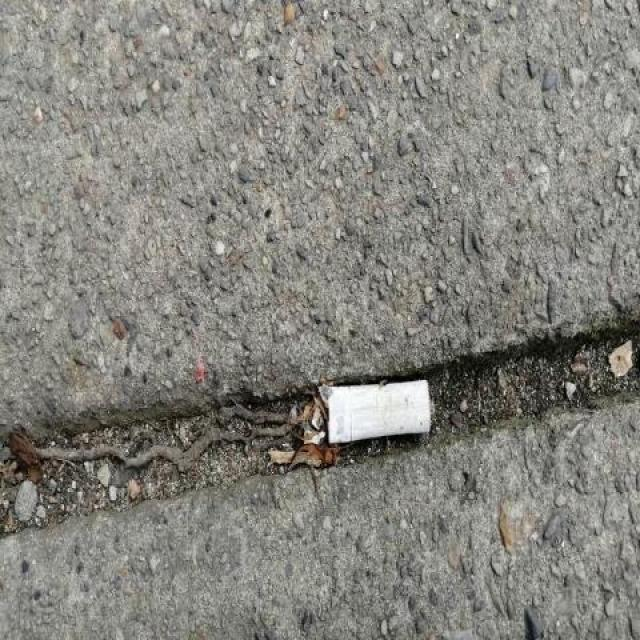non-organic waste: (320, 378, 436, 446)
